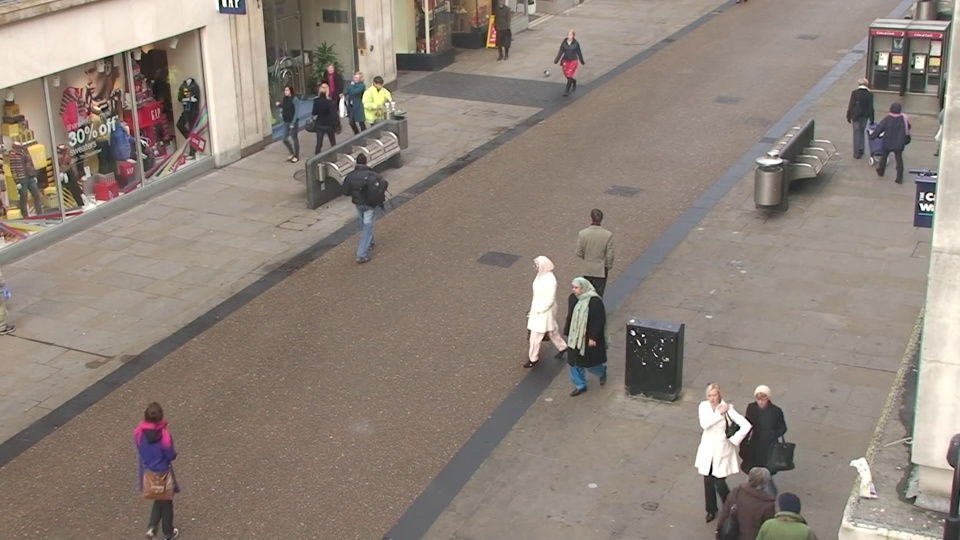pedestrian: (128, 390, 196, 540), (730, 374, 788, 538), (681, 373, 738, 535), (559, 270, 602, 407), (722, 451, 786, 540), (523, 248, 565, 380), (577, 203, 615, 323), (753, 474, 819, 540), (870, 100, 911, 194), (347, 148, 384, 252), (841, 74, 878, 161), (275, 81, 307, 165), (310, 80, 342, 164), (365, 73, 395, 156), (346, 68, 376, 149), (318, 59, 347, 138), (560, 27, 585, 98)
